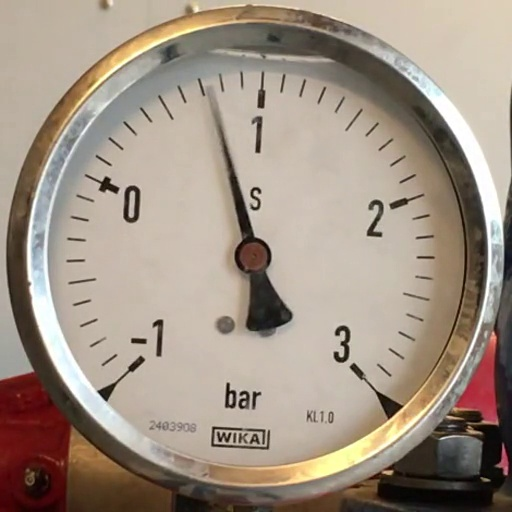base: (234, 238, 271, 274)
circle_plate: (49, 55, 466, 466)
maximum: (350, 362, 366, 380)
minimum: (128, 356, 146, 373)
number: (126, 316, 168, 360), (364, 196, 388, 242), (330, 322, 352, 365), (121, 182, 142, 226), (246, 112, 266, 158)
tip: (204, 80, 216, 97)
